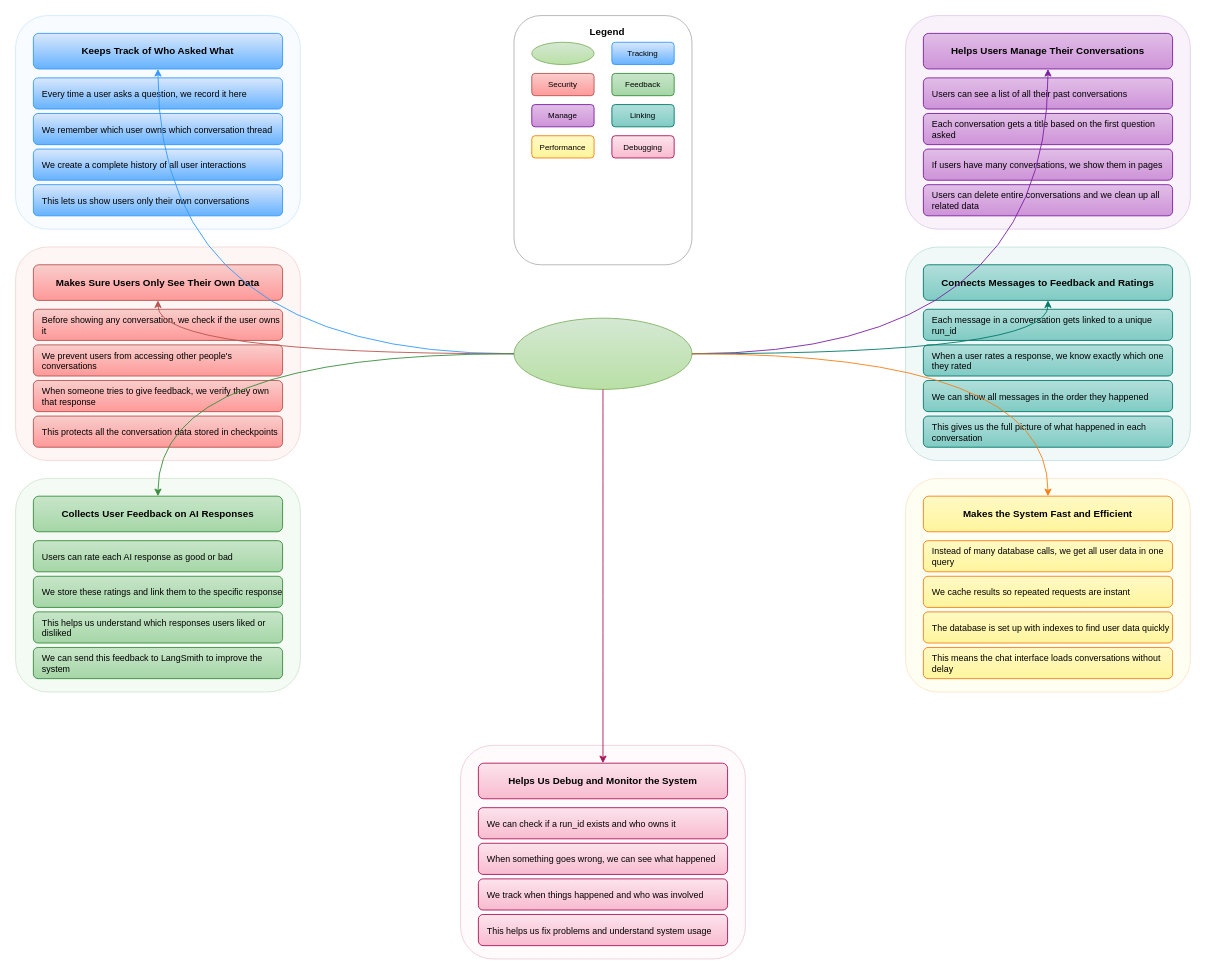
This 1206x975 diagram has some shape labels left out. Each missing label, with the centre of its shape:
Table: pixel 562 53
users_threads_runs: pixel 602 353
